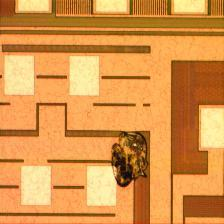PARTICLE: (98, 127, 162, 191)
